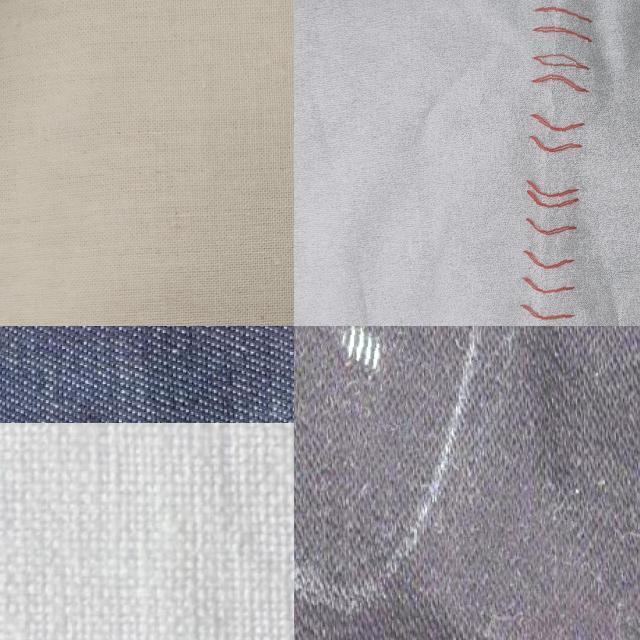Stitch: (429, 0, 640, 326)
Thread_other: (294, 326, 418, 424)
